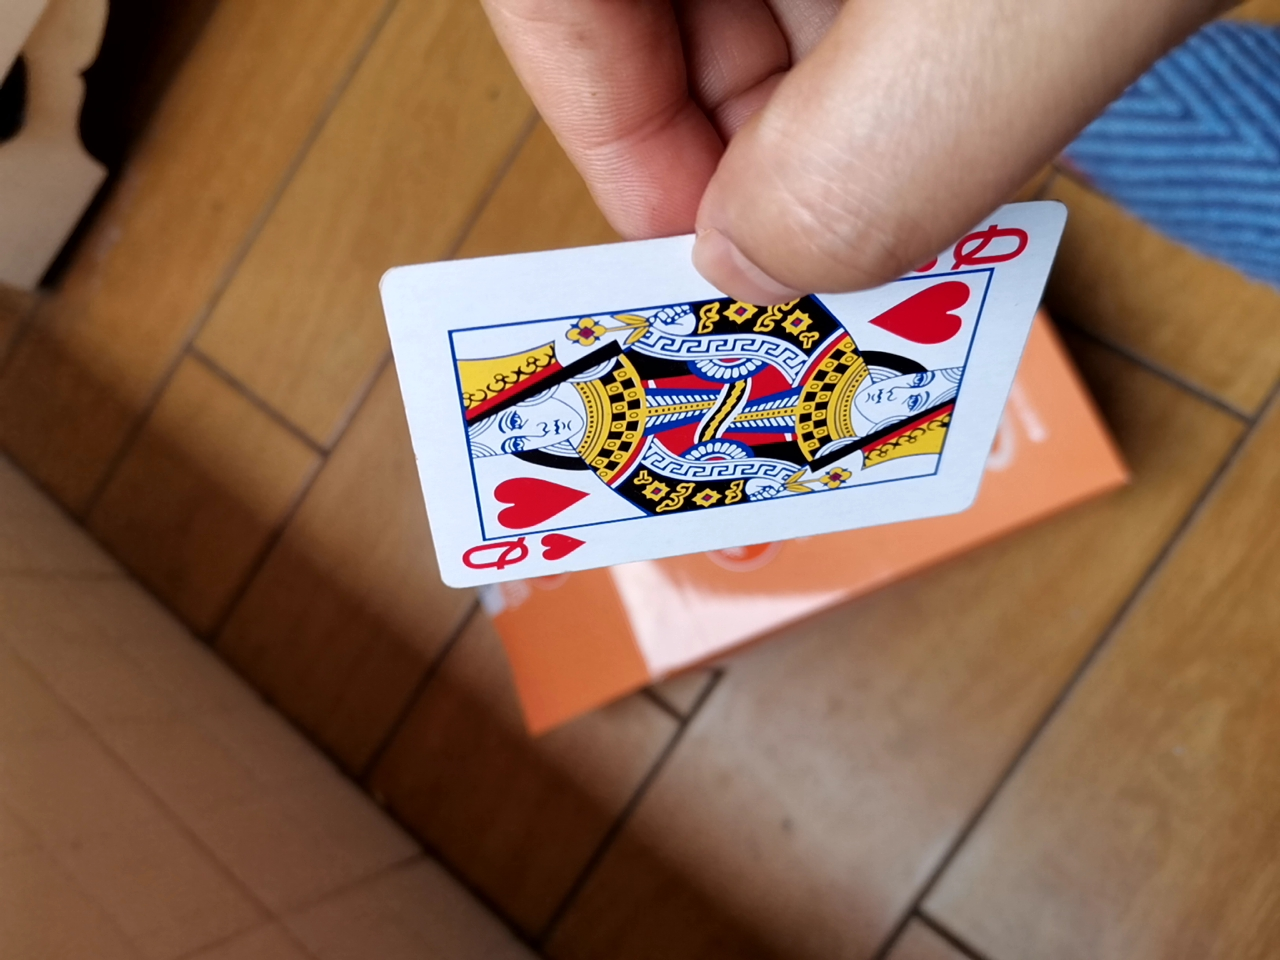hx q: (365, 214, 1078, 583)
